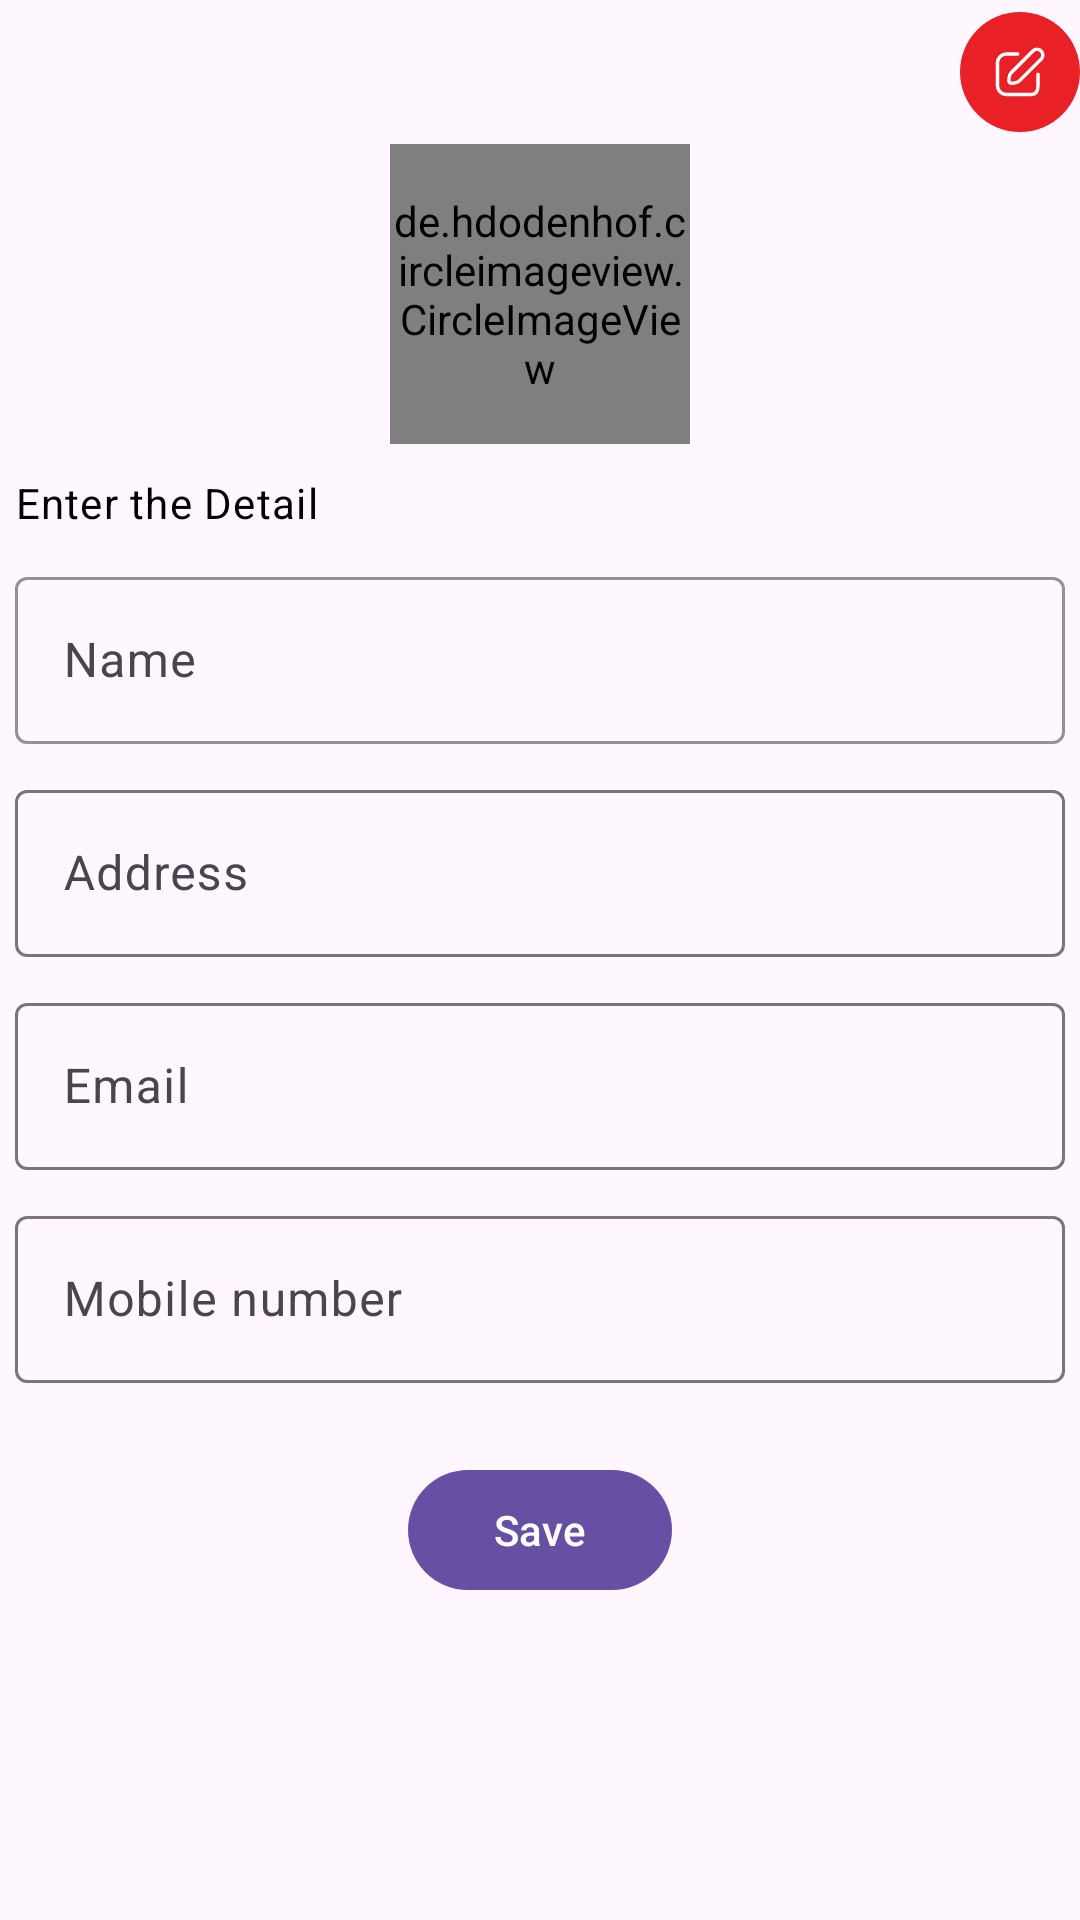

Screen size 1080×1920. Icon name, then its center in pixels as [x,y]:
edit: [1020,72]
